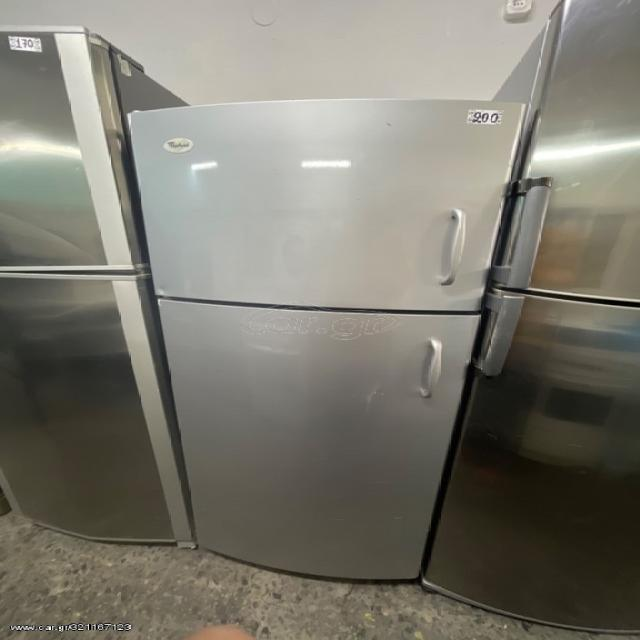refrigerator: (125, 112, 458, 588), (443, 0, 640, 608), (0, 24, 179, 548)
